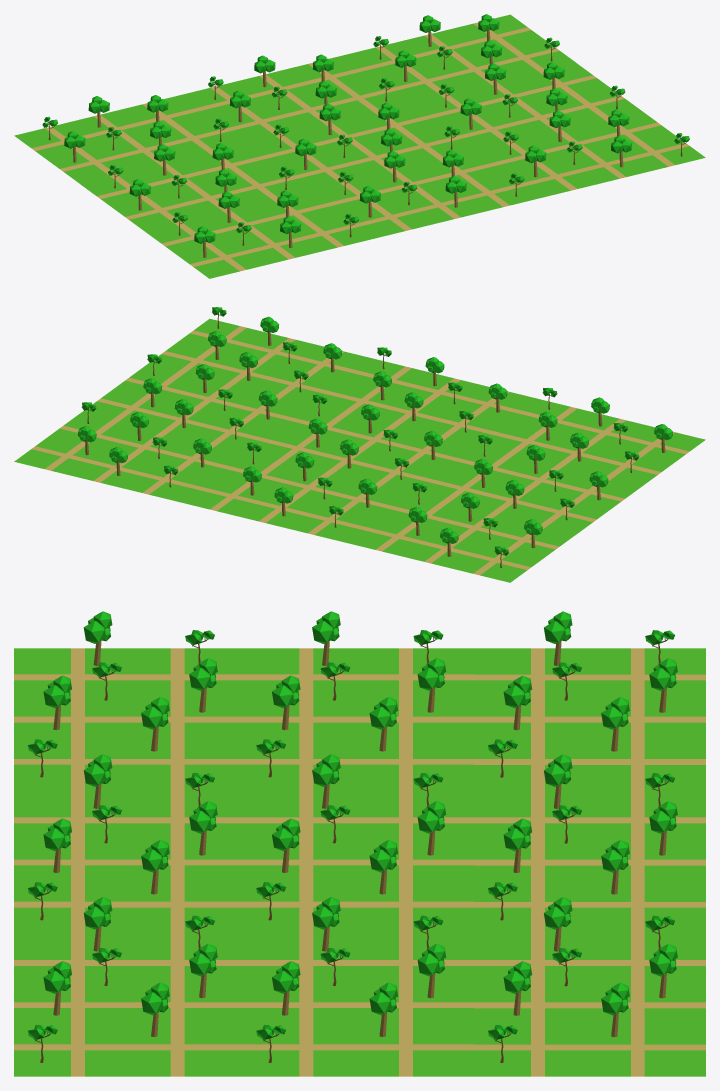
File: park_3x3.fbx
3 renders of one model, top to bottom at view 1: azimuth 30°, elevation 25°; view 2: azimuth 150°, elevation 25°; view 3: azimuth 270°, elevation 25°, orthographic. The views are drawn at different scales.
Visible parts, largest first — view 1: Plane004.023, Plane004.013, Plane004.003, Plane004.024, Plane004.021, Plane004.004, Plane004.011, Plane004.014, Plane004.001, Plane005.013, Plane005.003, Plane005.023 (+15 smaller); view 2: Plane004.024, Plane004.014, Plane004.004, Plane004.021, Plane004.001, Plane004.011, Plane004.023, Plane004.003, Plane004.013, Plane005.014, Plane005.024, Plane005.011 (+15 smaller); view 3: Plane004.011, Plane004.014, Plane004.013, Plane004.024, Plane004.021, Plane004.001, Plane004.004, Plane004.023, Plane004.003, Plane005.001, Plane005.003, Plane005.014 (+15 smaller).
Part boxes in pixels (bbox=[...]): Plane004.023: bbox=[145, 190, 374, 278]; Plane004.013: bbox=[476, 110, 705, 197]; Plane004.003: bbox=[311, 151, 539, 238]; Plane004.024: bbox=[14, 95, 244, 183]; Plane004.021: bbox=[80, 143, 309, 231]; Plane004.004: bbox=[180, 55, 409, 143]; Plane004.011: bbox=[411, 62, 640, 150]; Plane004.014: bbox=[345, 14, 575, 102]; Plane004.001: bbox=[245, 103, 475, 191]; Plane005.013: bbox=[492, 118, 689, 190]; Plane005.003: bbox=[327, 159, 523, 230]; Plane005.023: bbox=[161, 199, 358, 271]; Plane004.024: bbox=[345, 494, 575, 582]; Plane004.014: bbox=[14, 414, 244, 501]; Plane004.004: bbox=[180, 454, 409, 542]; Plane004.021: bbox=[411, 446, 640, 534]; Plane004.001: bbox=[245, 406, 474, 494]; Plane004.011: bbox=[80, 366, 309, 453]; Plane004.023: bbox=[476, 399, 705, 486]; Plane004.003: bbox=[311, 359, 539, 447]; Plane004.013: bbox=[145, 318, 374, 406]; Plane005.014: bbox=[31, 421, 228, 494]; Plane005.024: bbox=[362, 502, 559, 575]; Plane005.011: bbox=[97, 373, 293, 446]; Plane004.011: bbox=[242, 933, 474, 1076]; Plane004.014: bbox=[474, 934, 705, 1076]; Plane004.013: bbox=[14, 933, 245, 1076]; Plane004.024: bbox=[474, 648, 705, 791]; Plane004.021: bbox=[242, 648, 474, 790]; Plane004.001: bbox=[242, 791, 474, 933]; Plane004.004: bbox=[474, 791, 705, 933]; Plane004.023: bbox=[14, 648, 245, 790]; Plane004.003: bbox=[14, 791, 242, 933]; Plane005.001: bbox=[242, 791, 473, 933]; Plane005.003: bbox=[14, 791, 242, 933]; Plane005.014: bbox=[474, 934, 705, 1076].
Bounding box in the file's own units: 31134 × 1819 × 21246.
